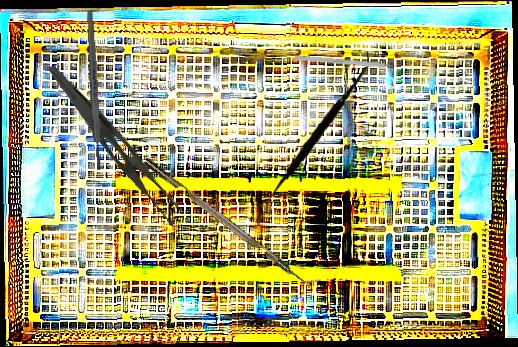Chopper: (143, 149, 321, 294)
Dressing Forceps: (30, 63, 194, 230)
Hook Surgical: (294, 55, 406, 70)
Scalpel Handle: (85, 9, 104, 171)
Spatula Surgical: (263, 45, 370, 220)
